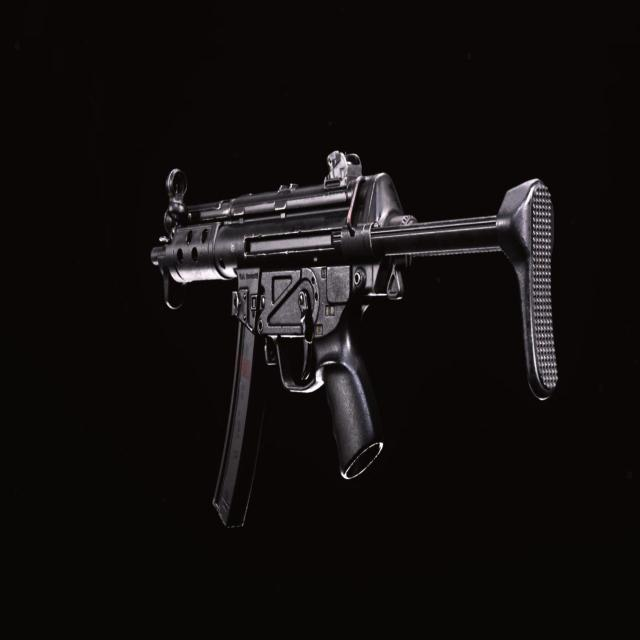weapon: (146, 158, 563, 530)
